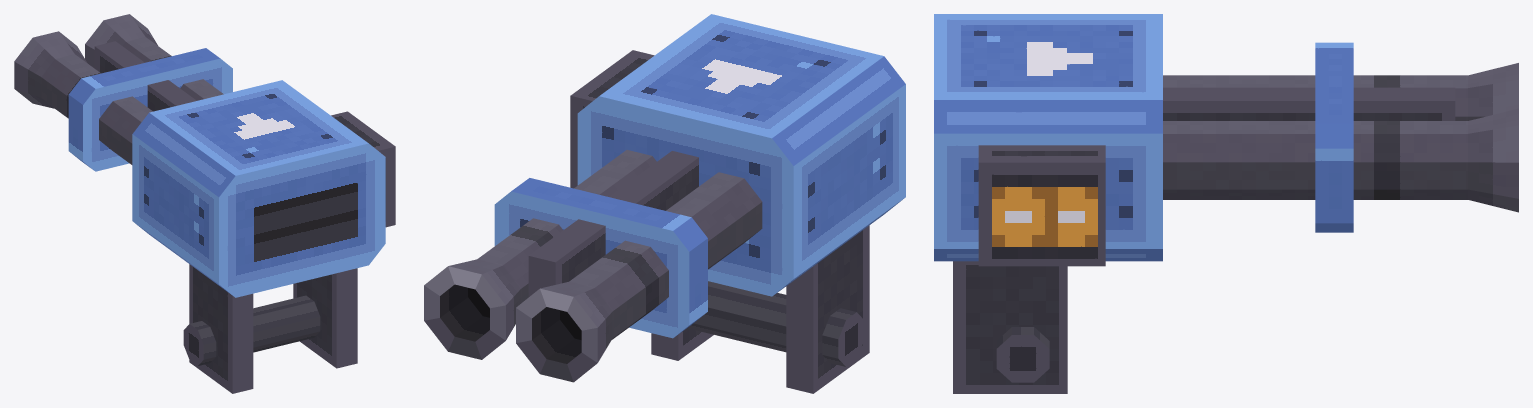
Rendered from shotgun.glb.
3 views of the same model, side by side, from view 1: azimuth 30°, elevation 25°; view 2: azimuth 150°, elevation 25°; view 3: azimuth 270°, elevation 25° (orthographic). The views are drawn at different scales.
Parts seen in each view (by area): view 1: shotgun_head; view 2: shotgun_head; view 3: shotgun_head.
Boxes of the visible parts, bbox=[...] form: shotgun_head: bbox=[14, 14, 395, 393]; shotgun_head: bbox=[424, 14, 905, 393]; shotgun_head: bbox=[934, 14, 1518, 393].
Bounding box in the file's own units: 0.465 × 0.515 × 0.92.
Materials: 1 (1 with a texture image).
